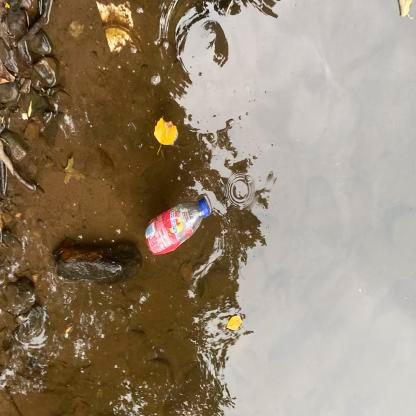Plastic: (142, 190, 213, 259)
